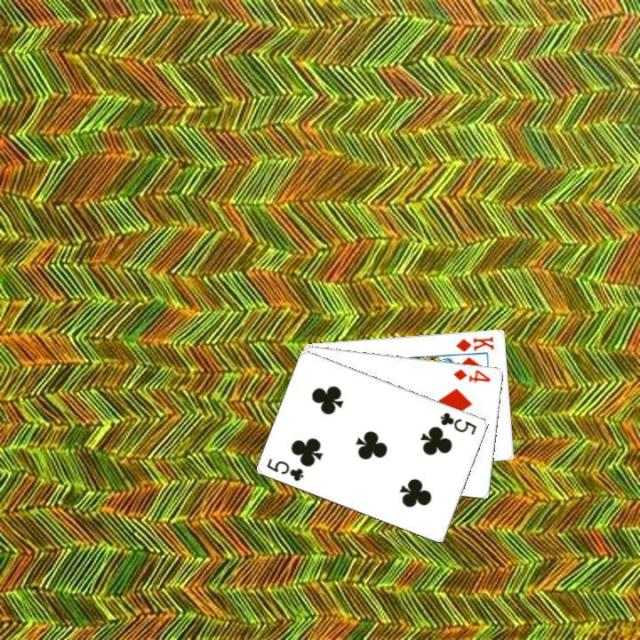4D: (450, 364, 492, 384)
5C: (263, 454, 306, 483), (437, 408, 479, 436)
KD: (452, 332, 496, 354)
